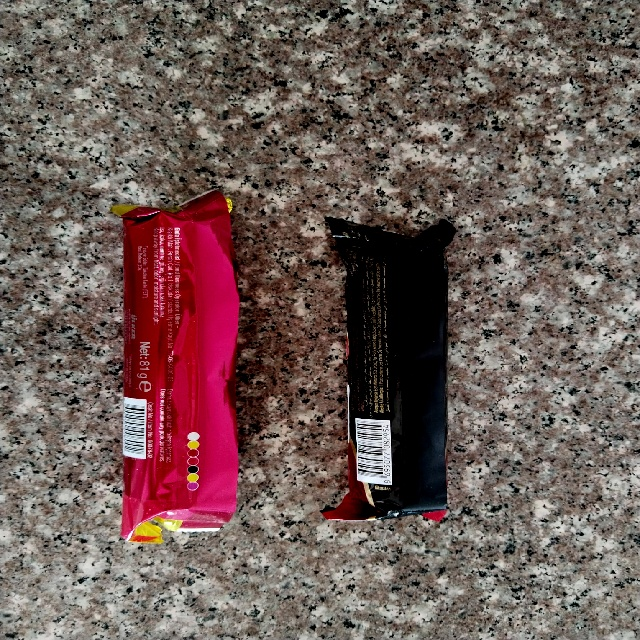susse_biskuvi: (322, 218, 452, 523)
ulker_cokoprens_biskuvi: (116, 191, 238, 541)
